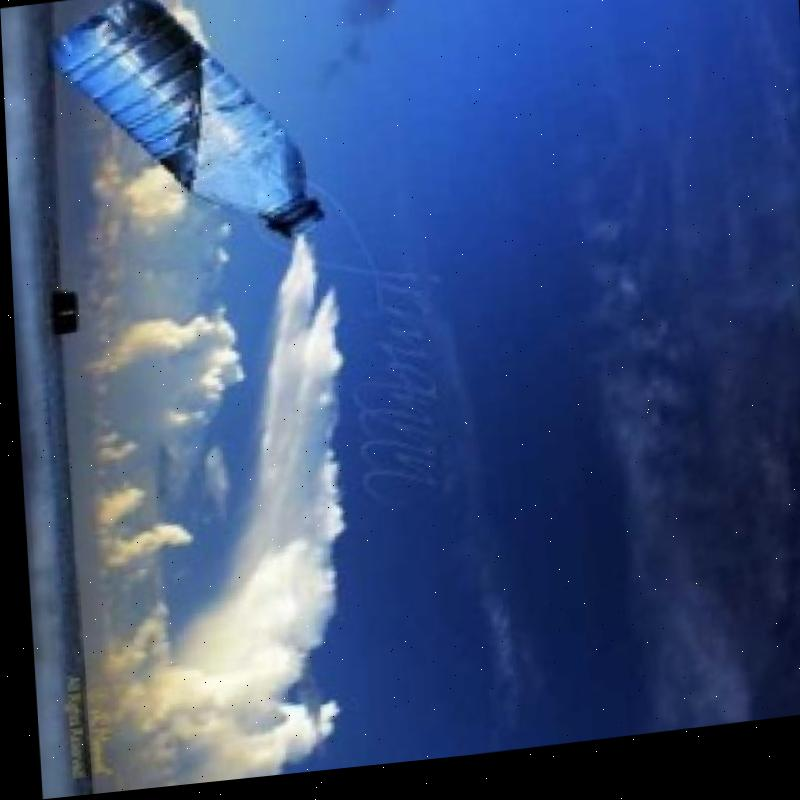botella: (43, 0, 323, 268)
